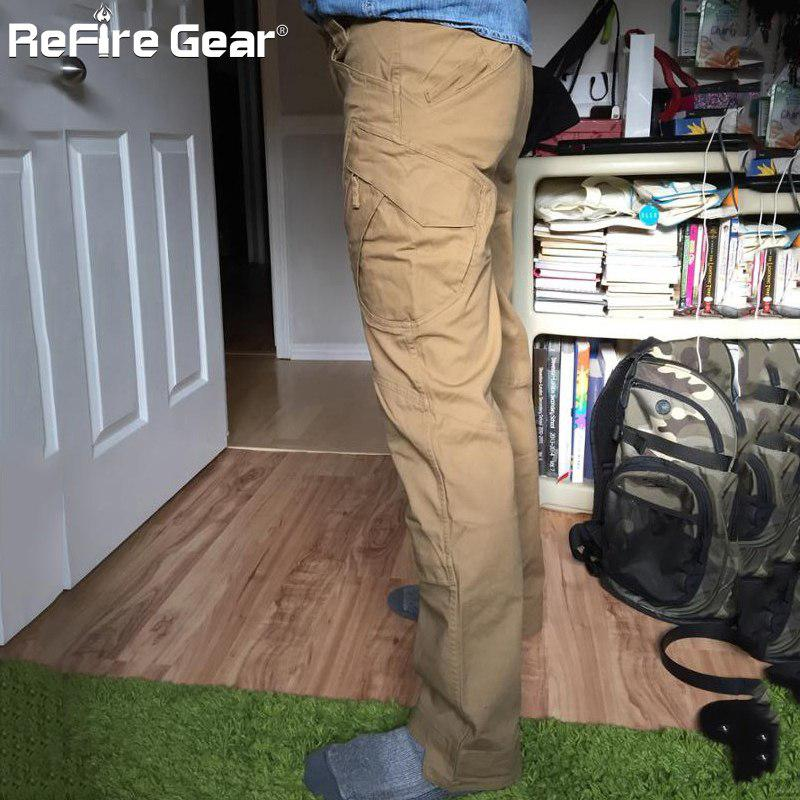pants: (314, 20, 533, 799)
